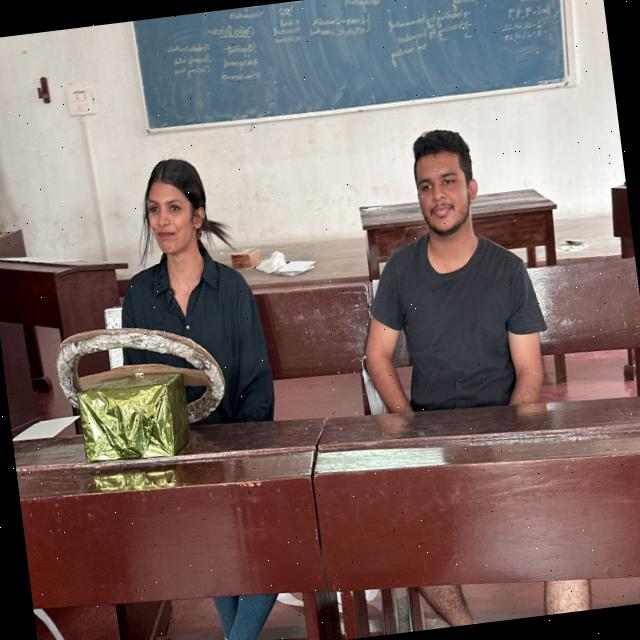Helmet: (344, 224, 561, 432), (86, 251, 280, 450)
